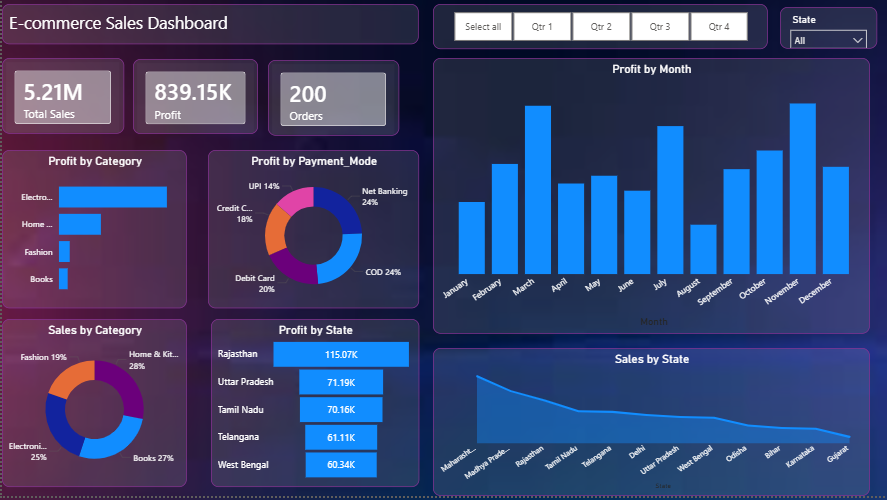

This screenshot's page, from the dashboard's own definition file:
{"tool":"powerbi","page":{"name":"Page 1","canvas":[1280,720],"ordinal":0},"visuals":[{"type":"donutChart","title":"Sales by Category","fields":{"Category":["Ecommerce_Sales_Data.Category"],"Y":["Sum(Ecommerce_Sales_Data.Quantity)"]},"box":[0,465.1,266.4,241.9],"z":0},{"type":"barChart","title":"Profit by Category","fields":{"Y":["Sum(Ecommerce_Sales_Data.Profit)"],"Category":["Ecommerce_Sales_Data.Category"]},"box":[0,221.8,266.4,227.5],"z":1000},{"type":"cardVisual","fields":{"Data":["Sum(Ecommerce_Sales_Data.Profit)"]},"box":[188.6,90.7,180,108],"z":2000},{"type":"cardVisual","fields":{"Data":["CountNonNull(Ecommerce_Sales_Data.Order_Date)"]},"box":[383,92.2,188.6,109.4],"z":3000},{"type":"stackedAreaChart","fields":{"Category":["Ecommerce_Sales_Data.State"],"Y":["Sum(Ecommerce_Sales_Data.Sales)"]},"box":[620.6,506.9,629.3,213.1],"z":5000},{"type":"textbox","box":[0,11.5,600.5,57.6],"z":6000},{"type":"columnChart","title":"Profit by Month","fields":{"Category":["Ecommerce_Sales_Data.Order_Date.Variation.Date Hierarchy.Month"],"Y":["Sum(Ecommerce_Sales_Data.Profit)"]},"box":[620,88.6,628.6,397.1],"z":7000},{"type":"donutChart","title":"Profit by Payment_Mode","fields":{"Y":["Sum(Ecommerce_Sales_Data.Quantity)"],"Category":["Ecommerce_Sales_Data.Payment_Mode"]},"box":[296.6,221.8,303.8,227.5],"z":8000},{"type":"cardVisual","fields":{"Data":["Sum(Ecommerce_Sales_Data.Sales)"]},"box":[0,89.3,175.7,109.4],"z":9000},{"type":"funnel","title":"Profit by State","fields":{"Category":["Ecommerce_Sales_Data.State"],"Y":["Sum(Ecommerce_Sales_Data.Profit)"]},"box":[301,465,300,242],"z":9001},{"type":"slicer","fields":{"Values":["Ecommerce_Sales_Data.Order_Date.Variation.Date Hierarchy.Quarter"]},"box":[620.6,11.5,482.4,64.8],"z":9002},{"type":"slicer","fields":{"Values":["Ecommerce_Sales_Data.State"]},"box":[1120.3,15.8,139.7,60.5],"z":9003}]}

Visuals, with their boxes in screenshot pixels (x1, y1, x2, y2), scaled from the page's 1280x720 canvas onto the 887x500 screenshot:
"Sales by Category" donutChart: Rect(0, 323, 185, 491)
"Profit by Category" barChart: Rect(0, 154, 185, 312)
cardVisual - Sum(Ecommerce_Sales_Data.Profit): Rect(131, 63, 255, 138)
cardVisual - CountNonNull(Ecommerce_Sales_Data.Order_Date): Rect(265, 64, 396, 140)
stackedAreaChart - Ecommerce_Sales_Data.State x Sum(Ecommerce_Sales_Data.Sales): Rect(430, 352, 866, 499)
textbox: Rect(0, 8, 416, 48)
"Profit by Month" columnChart: Rect(430, 62, 865, 337)
"Profit by Payment_Mode" donutChart: Rect(206, 154, 416, 312)
cardVisual - Sum(Ecommerce_Sales_Data.Sales): Rect(0, 62, 122, 138)
"Profit by State" funnel: Rect(209, 323, 416, 491)
slicer - Ecommerce_Sales_Data.Order_Date.Variation.Date Hierarchy.Quarter: Rect(430, 8, 764, 53)
slicer - Ecommerce_Sales_Data.State: Rect(776, 11, 873, 53)
